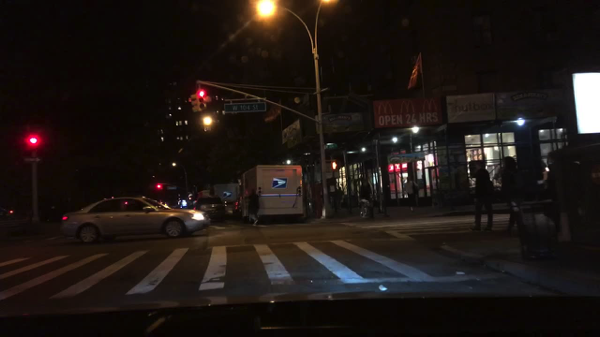bike: (360, 199, 372, 218)
car: (60, 196, 213, 244), (194, 195, 224, 221), (234, 197, 244, 218), (0, 205, 16, 217)
person: (500, 158, 528, 232), (470, 160, 495, 233), (403, 177, 418, 213), (248, 191, 260, 226), (336, 187, 345, 209)
rider: (359, 181, 371, 204)
traffic light: (27, 131, 40, 149), (197, 90, 206, 110), (207, 91, 214, 107), (191, 94, 197, 112), (330, 161, 338, 170), (156, 183, 162, 191)
traffic sign: (224, 103, 265, 112), (25, 157, 40, 162), (167, 187, 176, 191)
truck: (242, 165, 305, 223), (214, 183, 242, 217), (198, 191, 210, 196)
